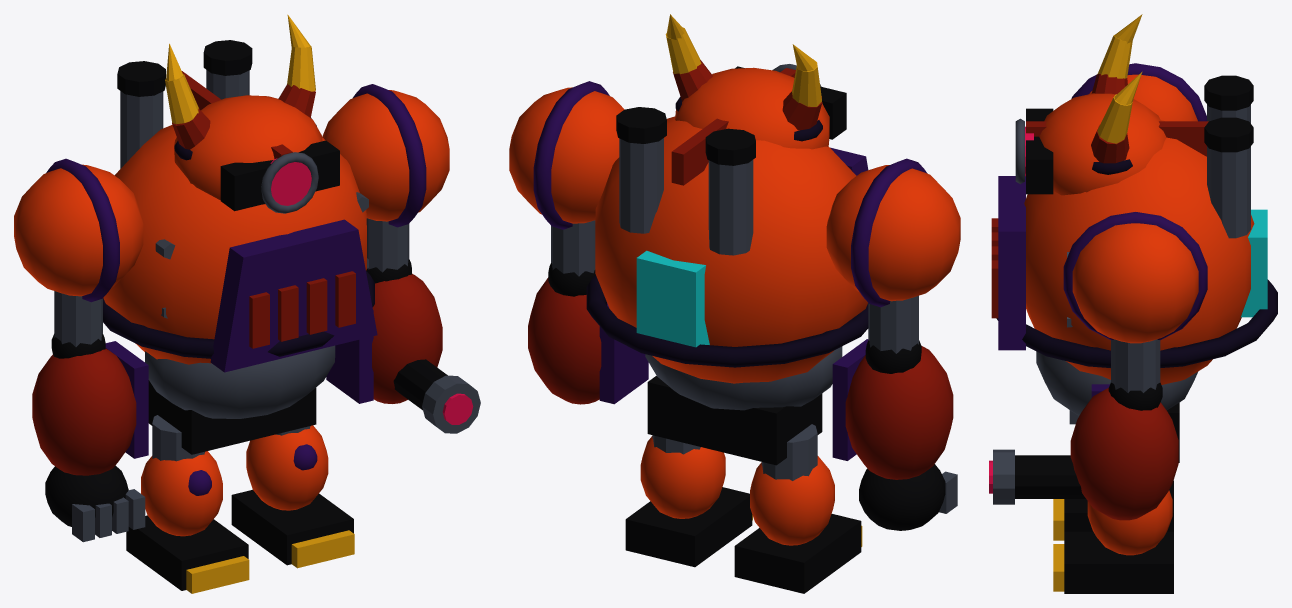
The model's file is Enemy_brute.fbx.
3 views of the same model, side by side, from view 1: azimuth 30°, elevation 25°; view 2: azimuth 150°, elevation 25°; view 3: azimuth 270°, elevation 25° (orthographic). The views are drawn at different scales.
Parts seen in each view (by area): view 1: Enemy_brute; view 2: Enemy_brute; view 3: Enemy_brute.
Part boxes in pixels (<box>): Enemy_brute: <box>14,14,480,593</box>; Enemy_brute: <box>509,14,960,593</box>; Enemy_brute: <box>989,14,1277,593</box>.
Size of the model in its own units: 0.8704 by 1.02 by 0.526.
